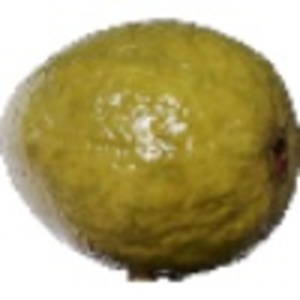goiaba: (2, 14, 294, 284)
